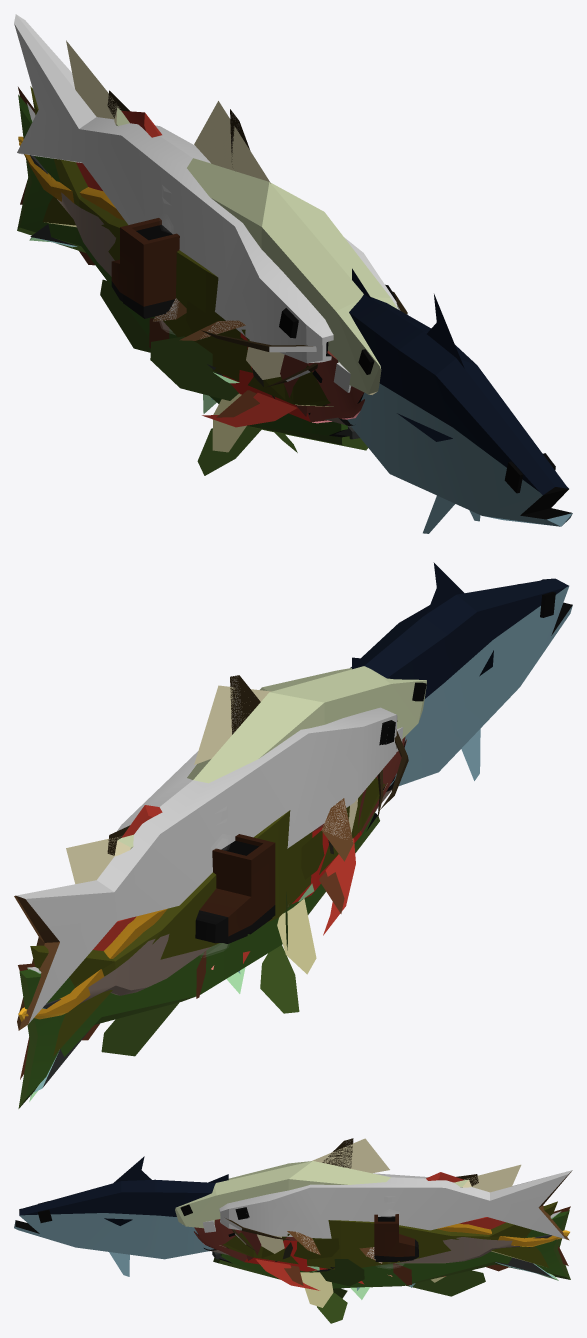
Rendered from Fish_Pack_1.obj.
3 views of the same model, one above another, from view 1: azimuth 30°, elevation 25°; view 2: azimuth 150°, elevation 25°; view 3: azimuth 270°, elevation 25° (orthographic). The views are drawn at different scales.
Visible parts, largest first — view 1: Little_Tunny_Plane.010, Channel_Catfish._Cursed_Plane.013, Fathead_Minnow_Plane.011, Largemouth_Bass_Vert, Walleye_Plane.001, Boots_Mesh.011, Asian_Arowana_Plane.009, Muskie_Plane.002, Channel_Catfish_Plane, Morrary_Plane.005; view 2: Channel_Catfish._Cursed_Plane.013, Little_Tunny_Plane.010, Fathead_Minnow_Plane.011, Largemouth_Bass_Vert, Walleye_Plane.001, Boots_Mesh.011, Channel_Catfish_Plane, Muskie_Plane.002, Asian_Arowana_Plane.009, Morrary_Plane.005; view 3: Channel_Catfish._Cursed_Plane.013, Little_Tunny_Plane.010, Fathead_Minnow_Plane.011, Walleye_Plane.001, Largemouth_Bass_Vert, Asian_Arowana_Plane.009, Muskie_Plane.002, Channel_Catfish_Plane, Boots_Mesh.011, Morrary_Plane.005, Northern_Anchovy_Plane.008.
Boxes of the visible parts, x1,y1,x2,y2 form: Little_Tunny_Plane.010: (347, 268, 572, 533); Channel_Catfish._Cursed_Plane.013: (14, 14, 407, 381); Fathead_Minnow_Plane.011: (66, 40, 397, 394); Largemouth_Bass_Vert: (17, 94, 367, 475); Walleye_Plane.001: (30, 86, 333, 452); Boots_Mesh.011: (111, 218, 179, 318); Asian_Arowana_Plane.009: (76, 111, 364, 427); Muskie_Plane.002: (18, 87, 353, 426); Channel_Catfish_Plane: (107, 90, 407, 387); Morrary_Plane.005: (18, 136, 124, 220); Channel_Catfish._Cursed_Plane.013: (16, 676, 397, 1023); Little_Tunny_Plane.010: (350, 562, 572, 786); Fathead_Minnow_Plane.011: (66, 666, 426, 884); Largemouth_Bass_Vert: (18, 811, 379, 1108); Walleye_Plane.001: (30, 777, 387, 1056); Boots_Mesh.011: (195, 834, 275, 943); Channel_Catfish_Plane: (14, 675, 408, 1030); Muskie_Plane.002: (18, 776, 395, 1079); Asian_Arowana_Plane.009: (93, 736, 406, 963); Morrary_Plane.005: (18, 908, 167, 1021); Channel_Catfish._Cursed_Plane.013: (219, 1138, 572, 1263); Little_Tunny_Plane.010: (14, 1156, 228, 1276); Fathead_Minnow_Plane.011: (175, 1138, 521, 1253); Walleye_Plane.001: (219, 1201, 557, 1307); Largemouth_Bass_Vert: (213, 1209, 570, 1323); Asian_Arowana_Plane.009: (194, 1172, 505, 1290); Muskie_Plane.002: (204, 1206, 570, 1285); Channel_Catfish_Plane: (225, 1138, 571, 1263); Boots_Mesh.011: (374, 1214, 418, 1261); Morrary_Plane.005: (437, 1223, 569, 1246); Northern_Anchovy_Plane.008: (212, 1234, 554, 1290).
Bounding box in the file's own units: 1.43 × 2.59 × 7.54.
